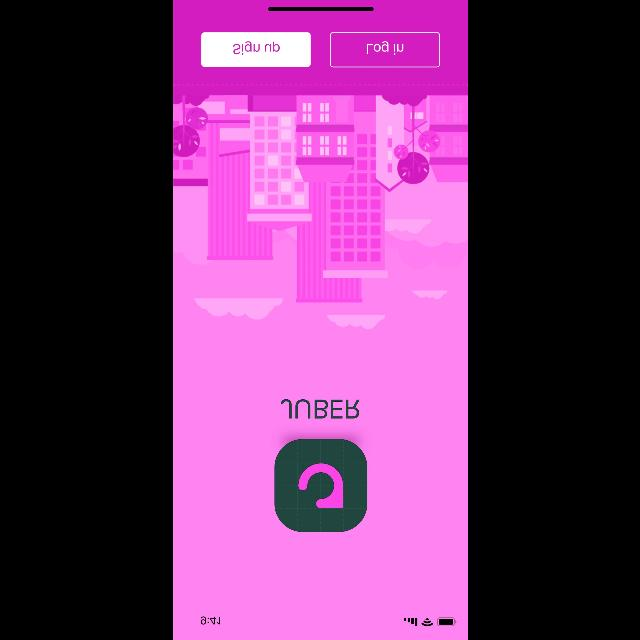image: (172, 83, 468, 329), (274, 438, 366, 532)
text: (280, 399, 360, 419)
textbutton: (328, 32, 439, 68), (200, 32, 310, 68)
uppertaskbar: (200, 616, 456, 626)
